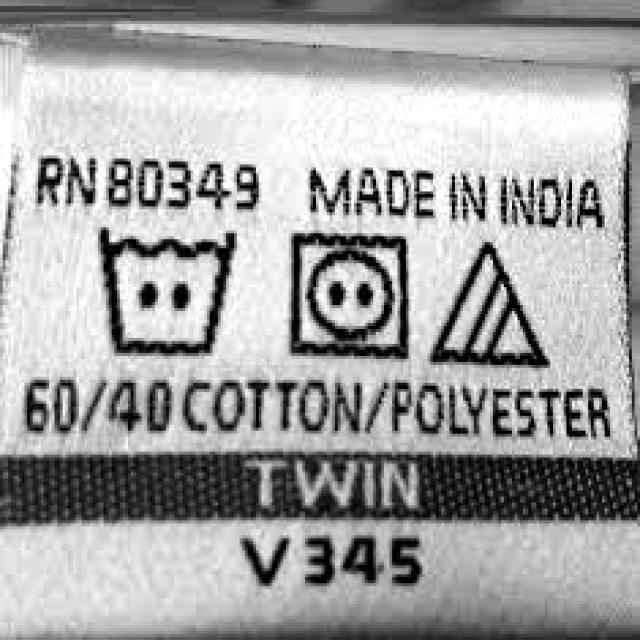40C: (87, 219, 245, 363)
non_chlorine_bleach: (423, 240, 554, 374)
tumble_dry_medium: (281, 227, 417, 361)
